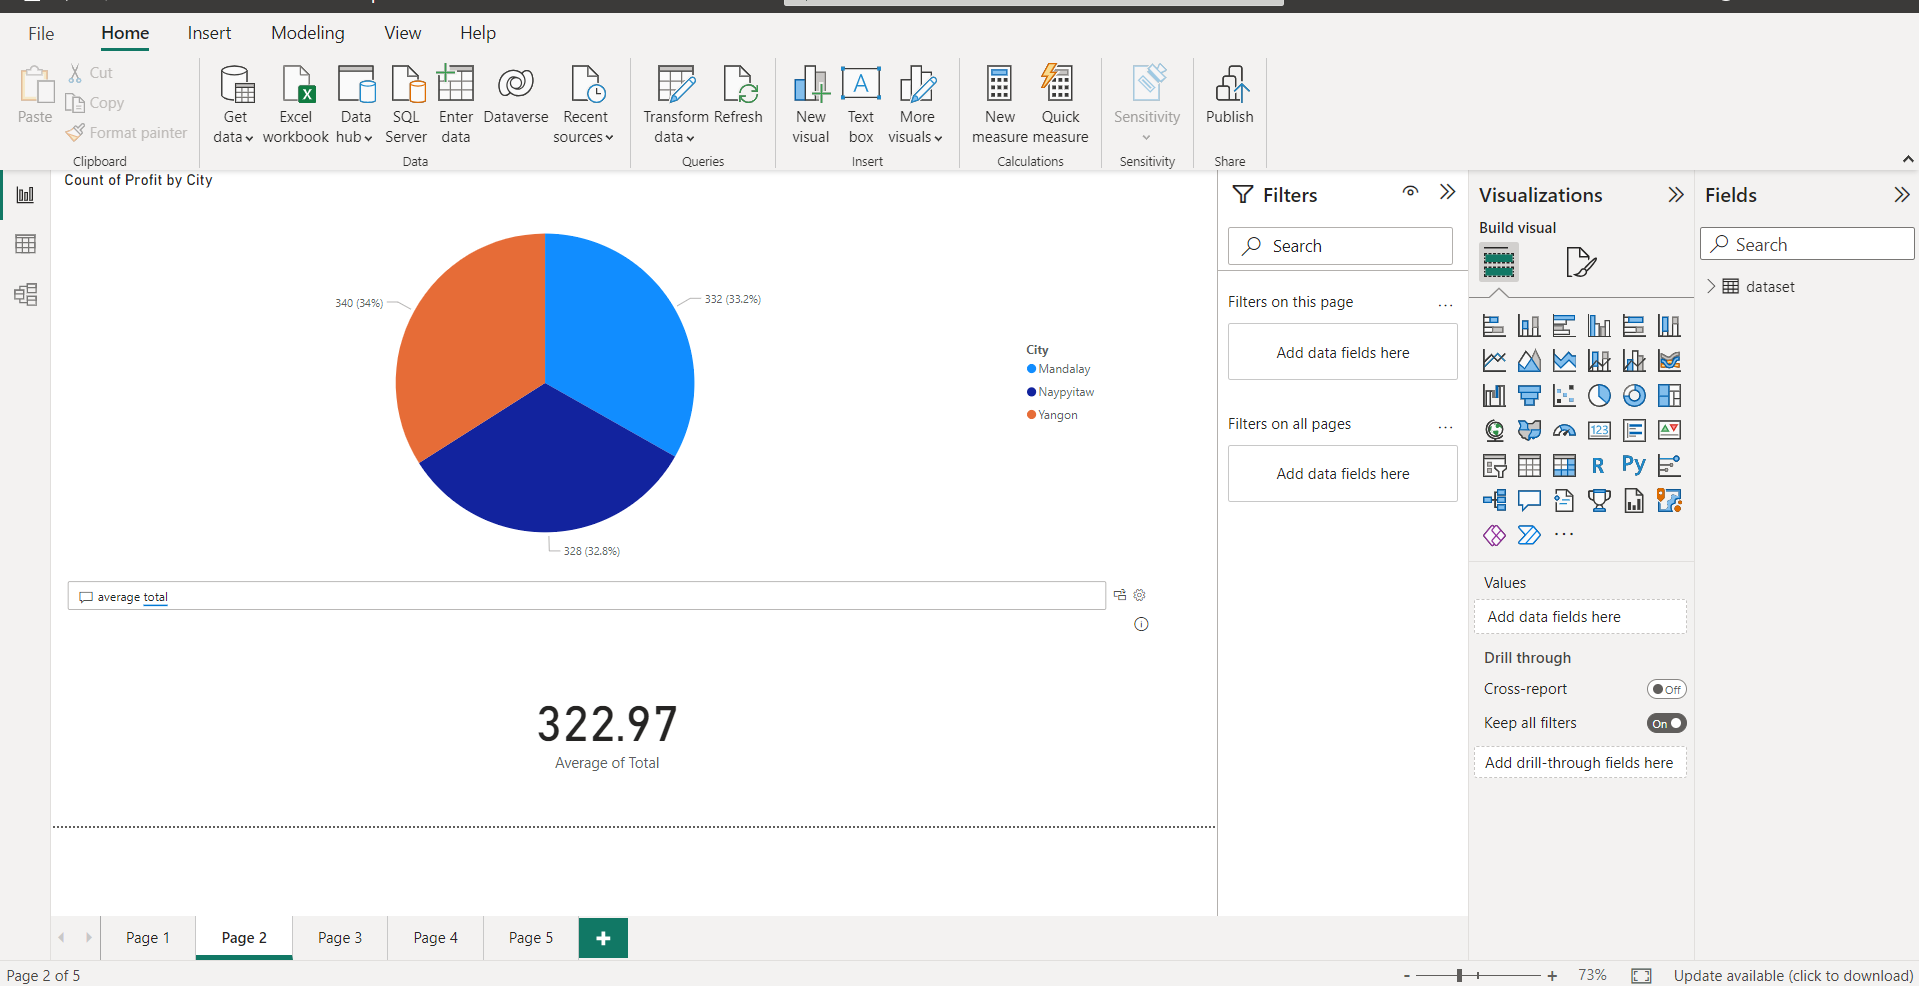

What the dashboard file says about the page in this screenshot:
{"tool":"powerbi","page":{"name":"Page 2","canvas":[1280,720],"ordinal":1},"visuals":[{"type":"pieChart","fields":{"Y":["CountNonNull(dataset.Profit)"],"Series":["dataset.City"]},"box":[9.6,0,546.6,416.1],"z":0},{"type":"qnaVisual","box":[9.6,426.1,546.6,293.9],"z":1000}]}

Visuals, with their boxes on the page's 1280x720 design canvas (x1, y1, x2, y2). These are canvas units, not pixel positions in the 1919x986 screenshot, which may show the page scaled, cropped or inside an application window:
pieChart - CountNonNull(dataset.Profit) x dataset.City: l=10, t=0, r=556, b=416
qnaVisual: l=10, t=426, r=556, b=720
